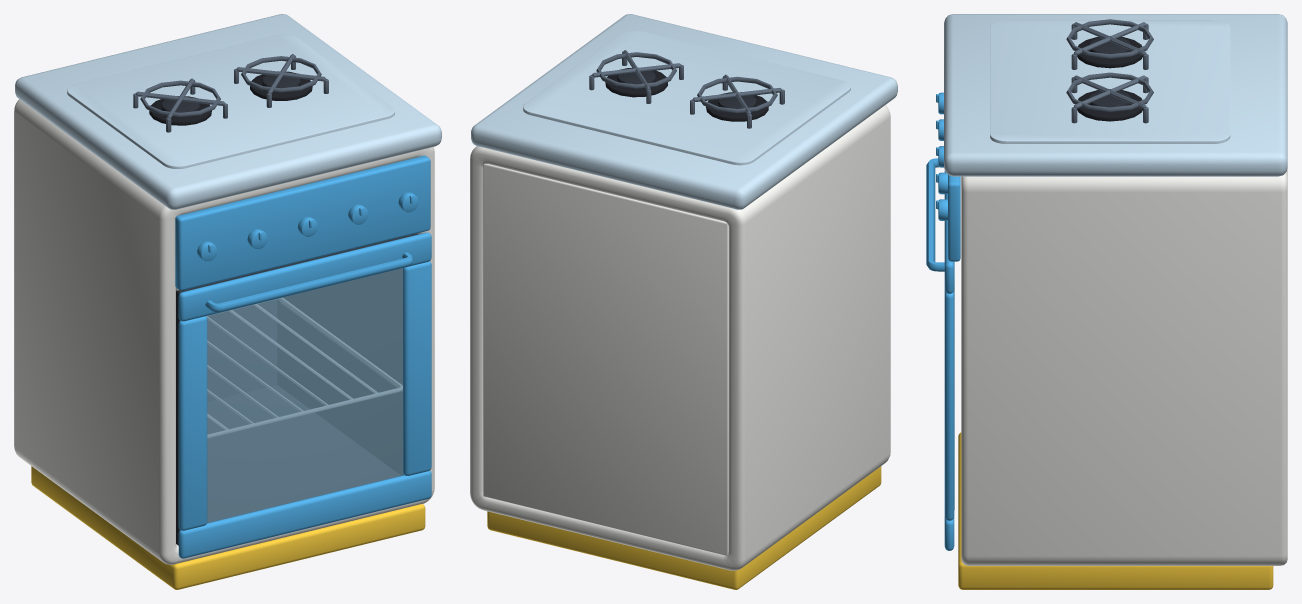
Rendered from fogao_retro_branco_azul.glb.
The picture shows the model from 3 angles, left to right: view 1: azimuth 30°, elevation 25°; view 2: azimuth 150°, elevation 25°; view 3: azimuth 270°, elevation 25°; orthographic projection. The views are drawn at different scales.
Parts seen in each view (by area): view 1: fogao_retro_branco_azul, porta_forno; view 2: fogao_retro_branco_azul; view 3: fogao_retro_branco_azul, porta_forno.
Boxes of the visible parts, box(x1,y1,x2,y2) form: fogao_retro_branco_azul: box(14, 14, 441, 589); porta_forno: box(178, 232, 431, 558); fogao_retro_branco_azul: box(470, 14, 897, 589); fogao_retro_branco_azul: box(936, 14, 1287, 589); porta_forno: box(926, 158, 954, 550).
Size of the model in its own units: 0.6 by 0.889 by 0.631.
Materials: 2 (1 with a texture image).
